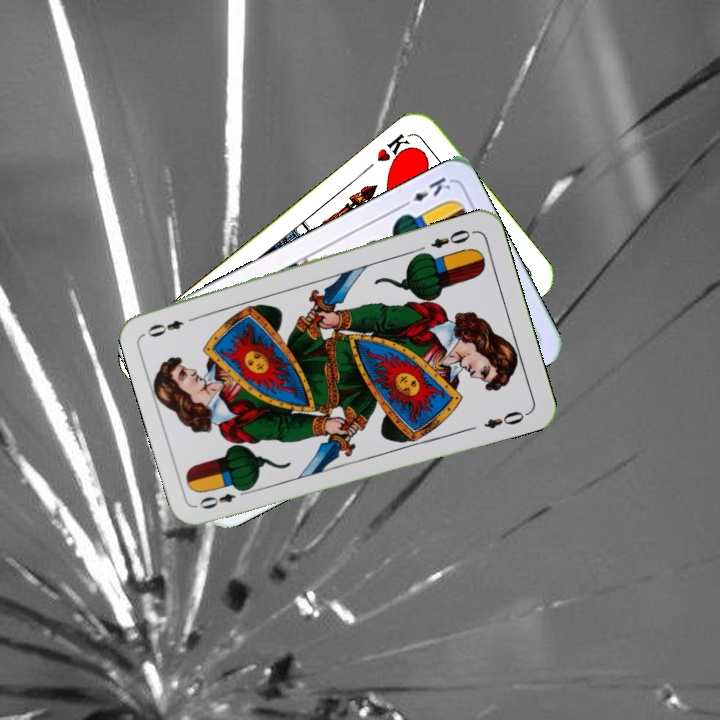EK: (397, 172, 454, 211)
EO: (195, 483, 252, 512), (426, 225, 473, 251)
HK: (372, 129, 416, 169)
